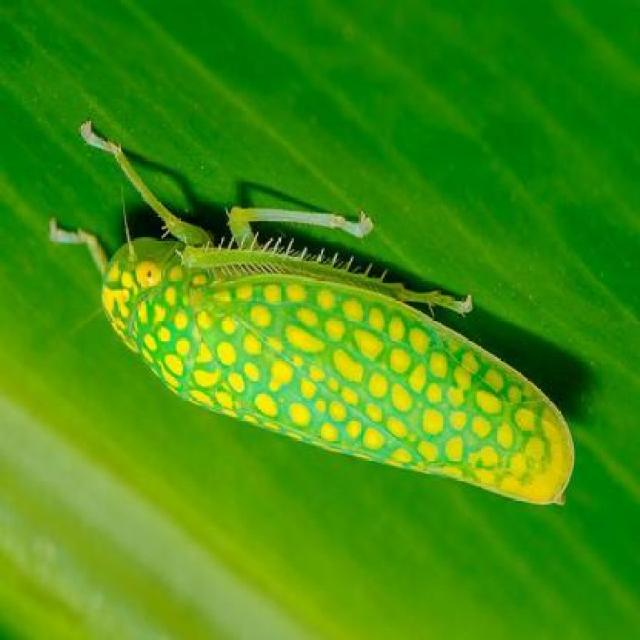green-leafhopper: (92, 158, 572, 508)
